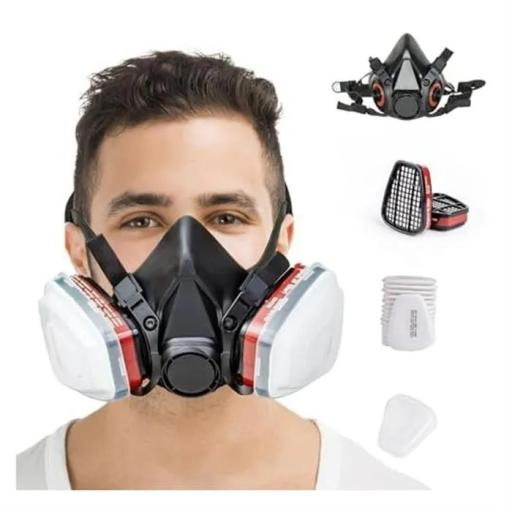mask: (28, 231, 372, 411)
